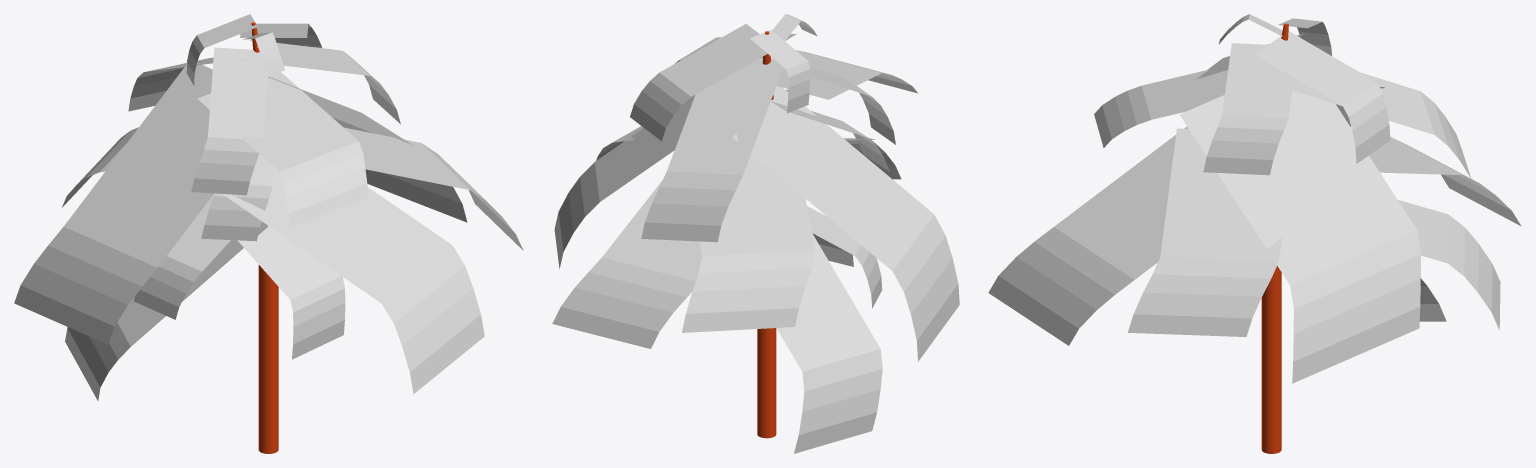
File: funkyplant.fbx
3 renders of one model, left to right at view 1: azimuth 30°, elevation 25°; view 2: azimuth 150°, elevation 25°; view 3: azimuth 270°, elevation 25°, orthographic. The views are drawn at different scales.
Visible parts, largest first — view 1: Plane.013; view 2: Plane.013; view 3: Plane.013.
Boxes of the visible parts, x1,y1,x2,y2 form: Plane.013: (14, 14, 523, 453); Plane.013: (552, 14, 959, 453); Plane.013: (988, 14, 1521, 453).
Size of the model in its own units: 283 by 280 by 317.
